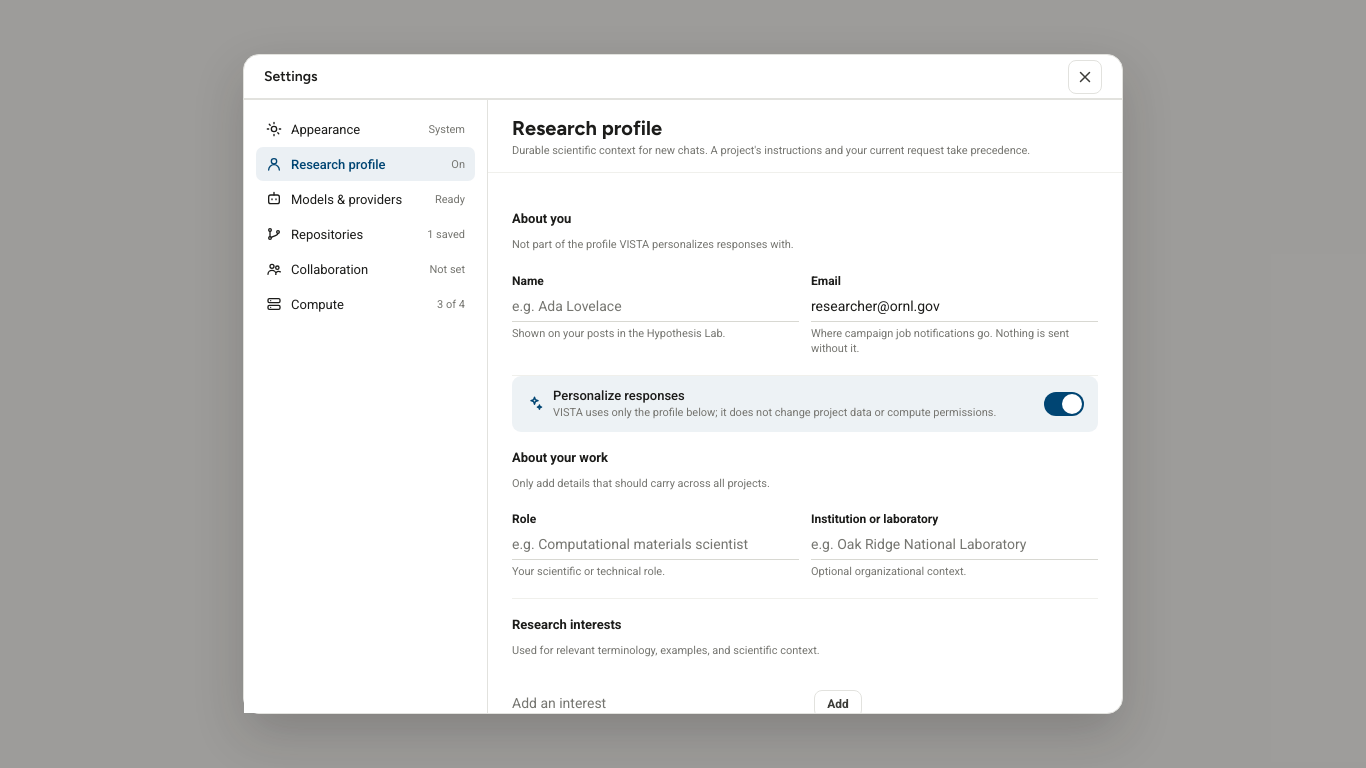
Test case: UserSettingsModal repositories › says a token is saved without showing it, and where tokens are used
Click the button "Repositories 1 saved" at {"x": 366, "y": 234}, box 256,217 -> 475,251
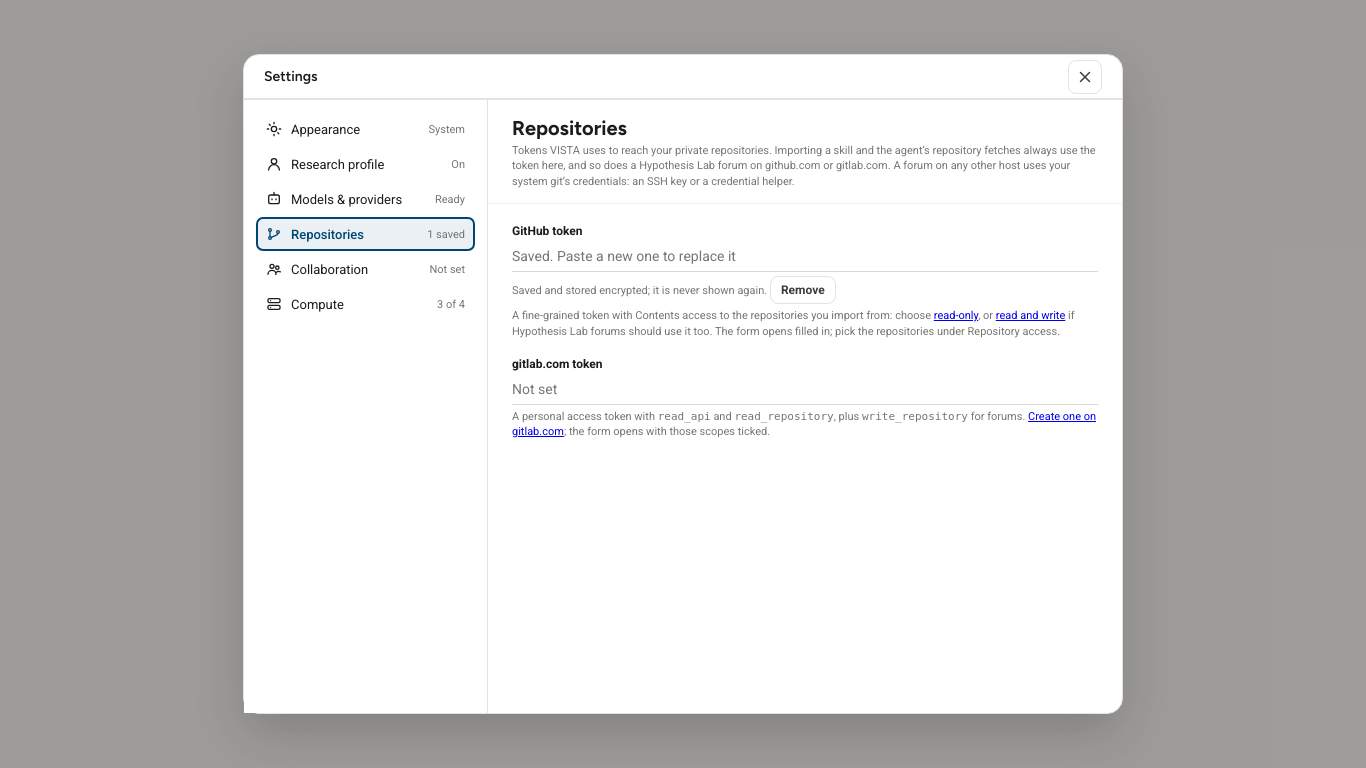
Now the password field labelled "GitHub token" is empty, box 512,242 -> 1098,272
Now the text "always use the token here" shows "Hypothesis Lab forum on github.com or gitlab.com", box 512,144 -> 1096,188
Now the text "always use the token here" shows "any other host uses your system git.s credentials", box 512,144 -> 1096,188
